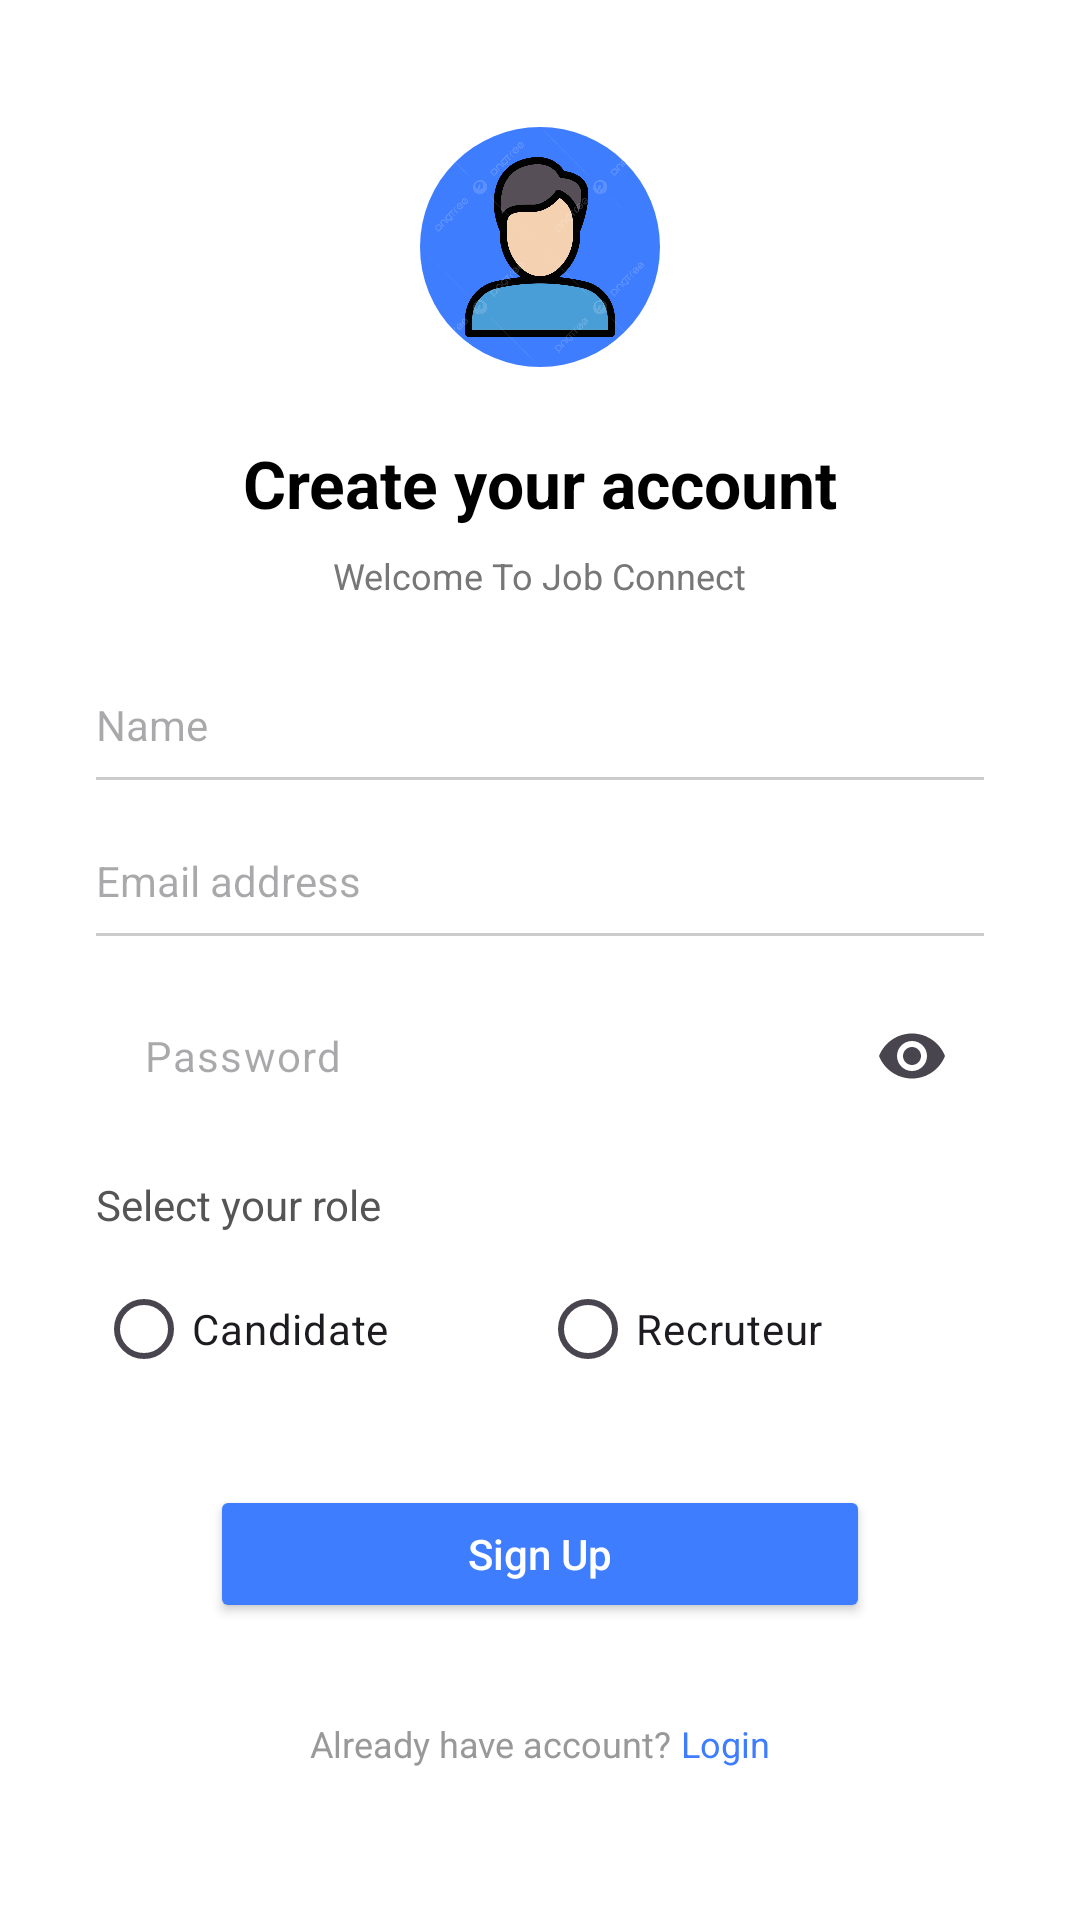

Point at icon controls on the screen. Image size 1080px×1920px, points as (x,y).
person: (540,247)
